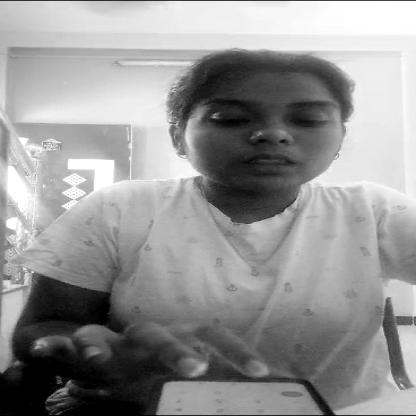Normal: (195, 80, 337, 184)
